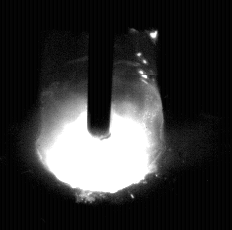arame: (88, 0, 112, 139)
poca: (35, 0, 166, 230)
